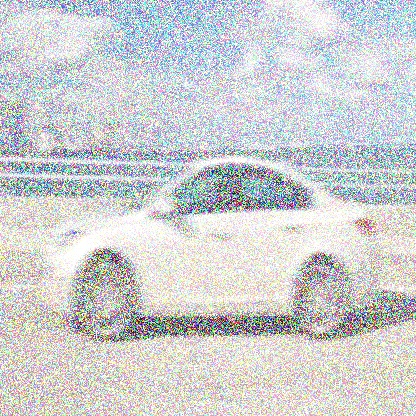Vehicle: (41, 158, 380, 341)
